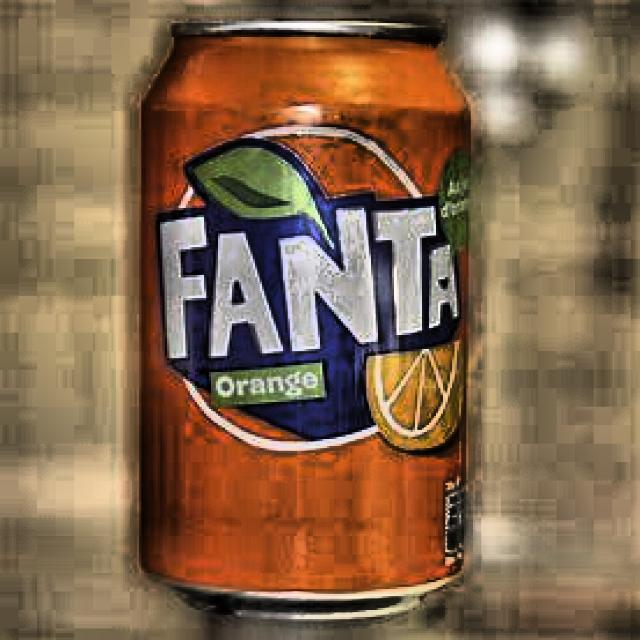Cans: (127, 9, 476, 638)
